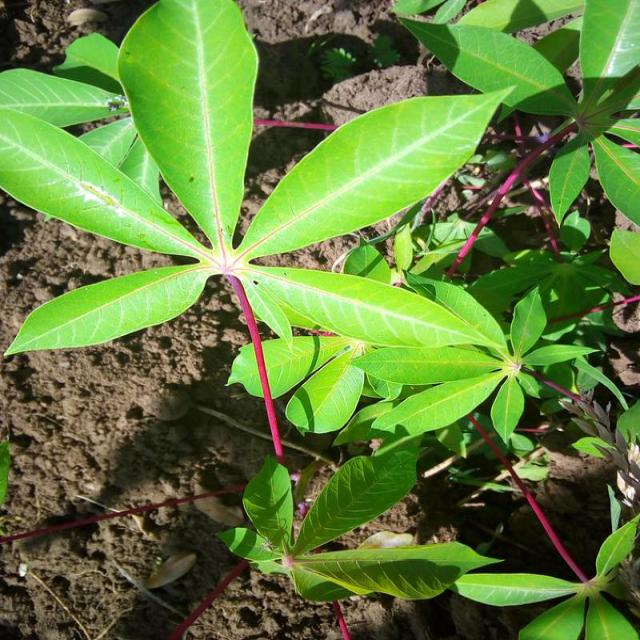cassava leaf: (234, 85, 514, 262), (114, 0, 260, 252)
